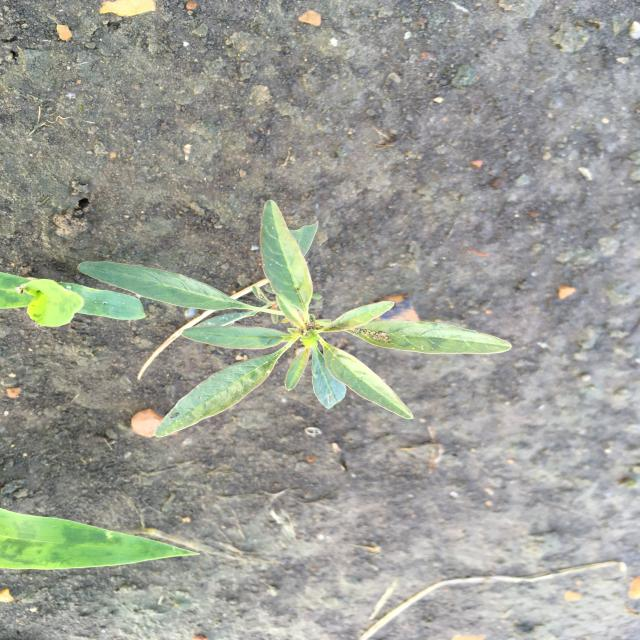Waterhemp: (74, 199, 514, 439)
